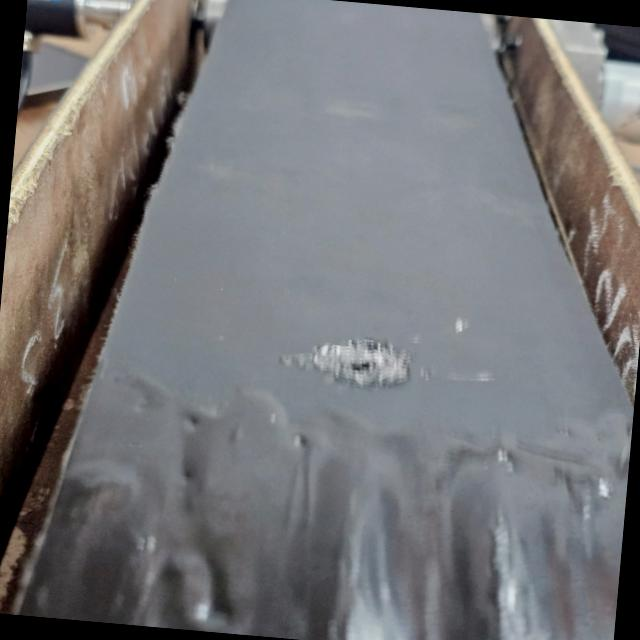Joint_Damage: (0, 399, 629, 640)
punture: (279, 337, 412, 389), (445, 371, 494, 381)
